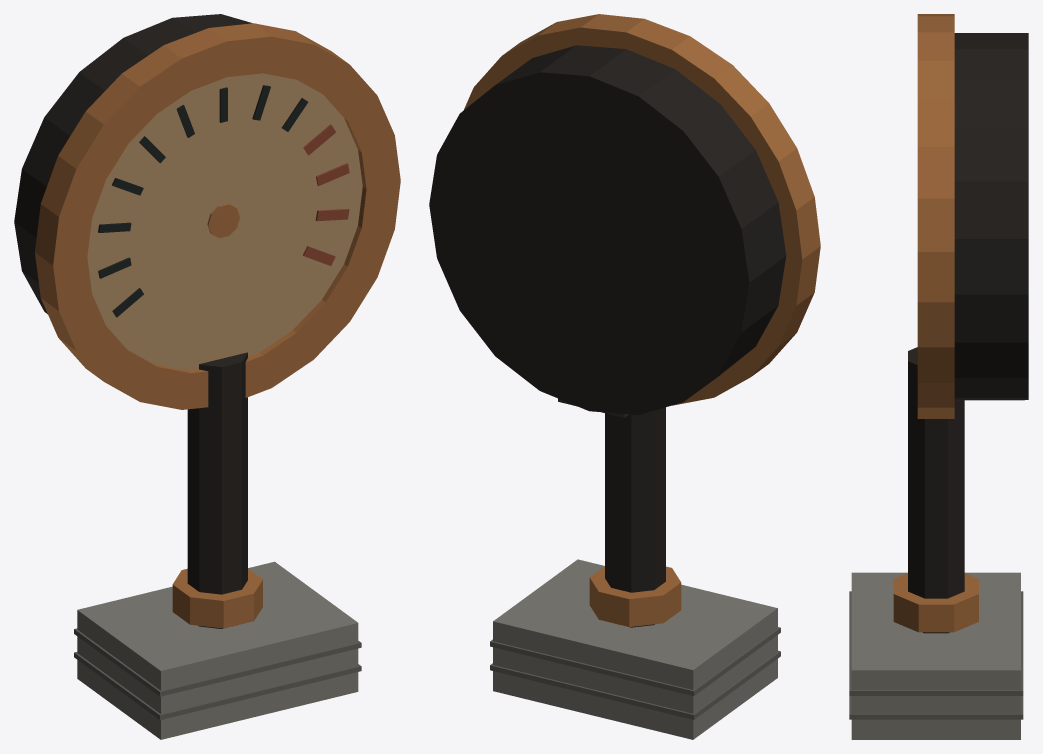
Rendered from gauge.glb.
The picture shows the model from 3 angles, left to right: view 1: azimuth 30°, elevation 25°; view 2: azimuth 150°, elevation 25°; view 3: azimuth 270°, elevation 25°; orthographic projection.
Parts seen in each view (by area): view 1: gauge.001; view 2: gauge.001; view 3: gauge.001.
Part boxes in pixels (left/top/right/bottom): gauge.001: left=14, top=14, right=400, bottom=739; gauge.001: left=429, top=14, right=820, bottom=739; gauge.001: left=849, top=14, right=1028, bottom=739.
Bounding box in the file's own units: 2.64 × 4.72 × 1.17.
